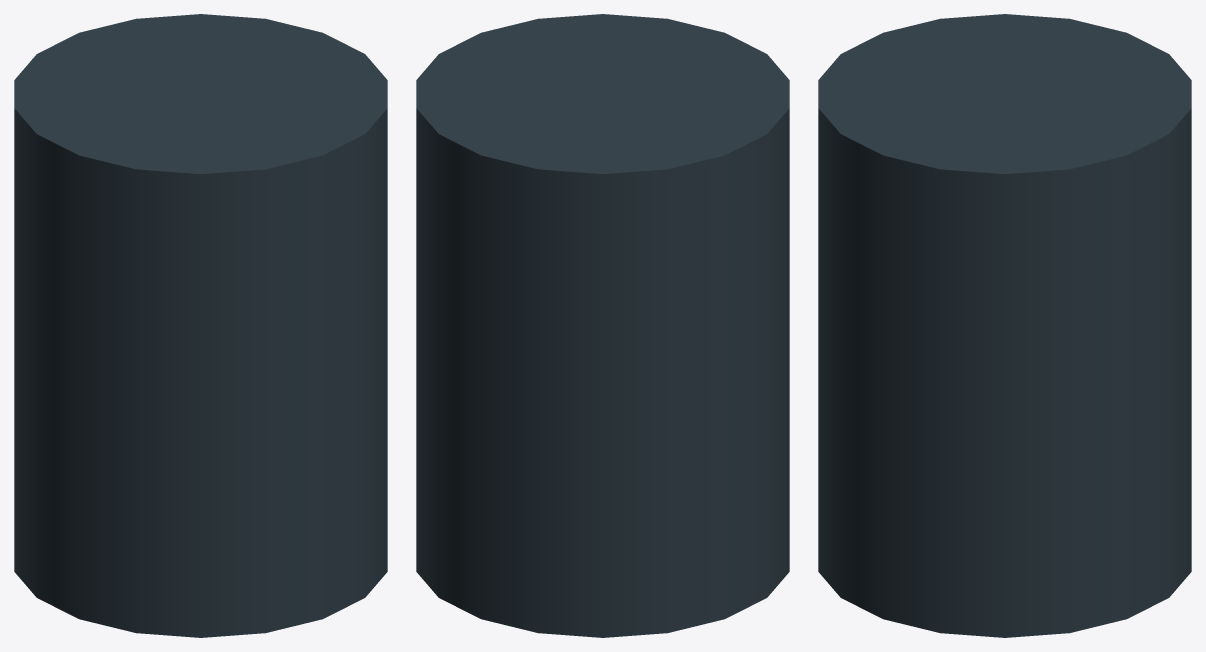
File: columnaD.DAE
The picture shows the model from 3 angles, left to right: view 1: azimuth 30°, elevation 25°; view 2: azimuth 150°, elevation 25°; view 3: azimuth 270°, elevation 25°; orthographic projection.
Visible parts, largest first — view 1: columnaD; view 2: columnaD; view 3: columnaD.
Boxes of the visible parts, x1,y1,x2,y2 form: columnaD: (14,14,387,637); columnaD: (416,14,789,637); columnaD: (818,14,1191,637).
Size of the model in its own units: 2 by 1.97 by 2.7.
